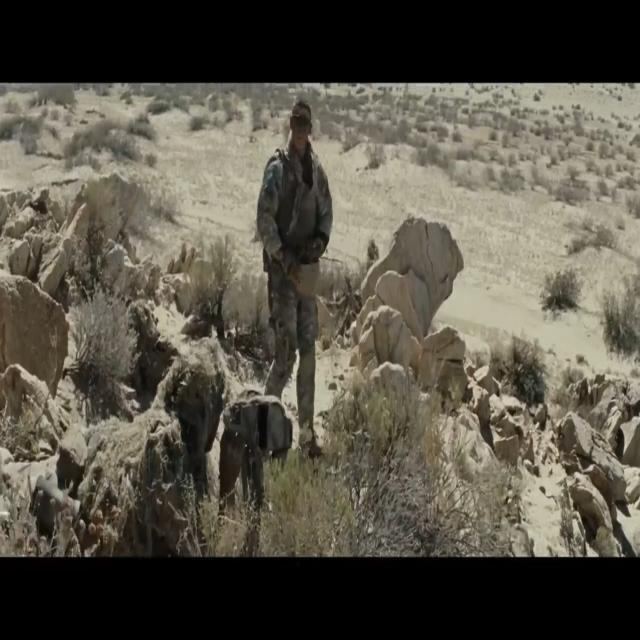MIL_Pax: (0, 340, 292, 556), (256, 102, 332, 458)
